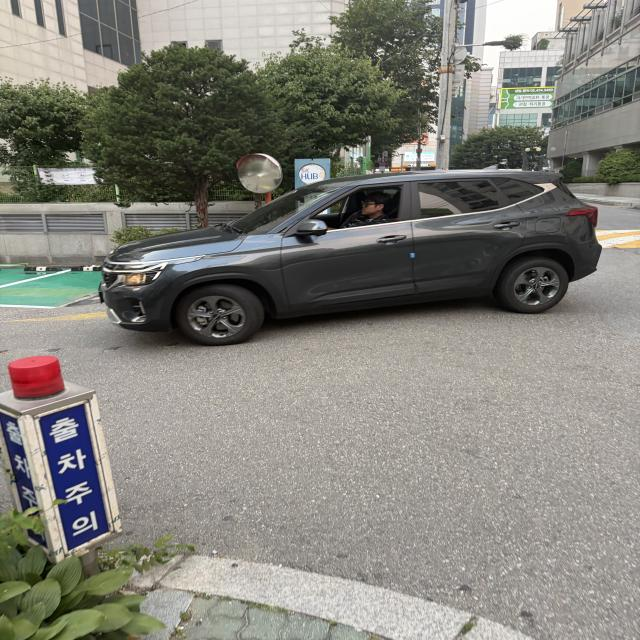car: (57, 146, 612, 355)
